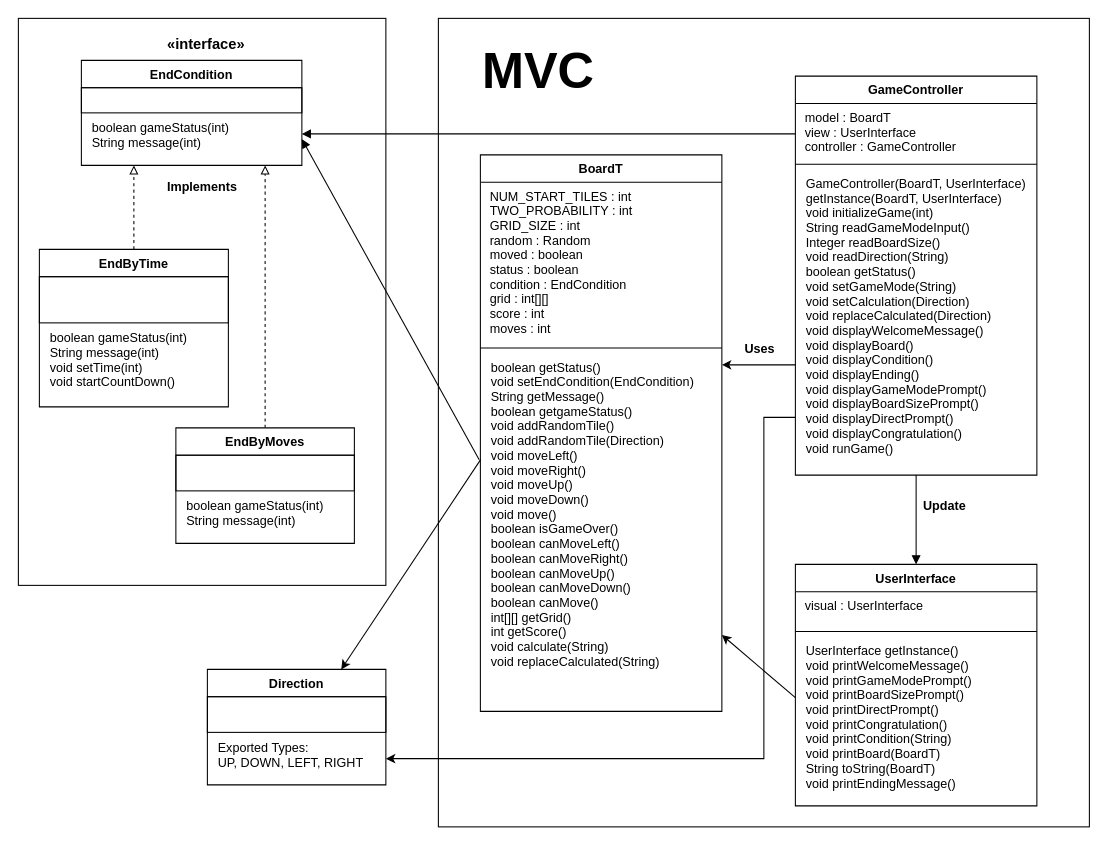
This 1108x845 diagram has some shape labels left out. Each missing label, with the centre of its shape:
maxMoves : int: pixel 264 472
timeLeft : int t : Thread: pixel 133 299
